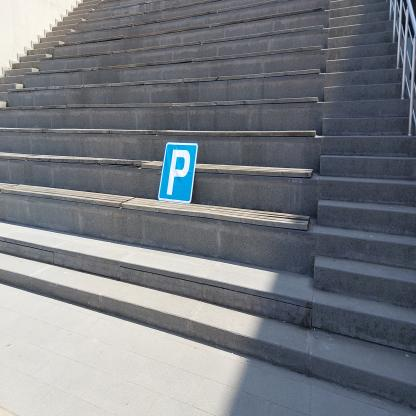Parking-Sign: (158, 143, 199, 205)
